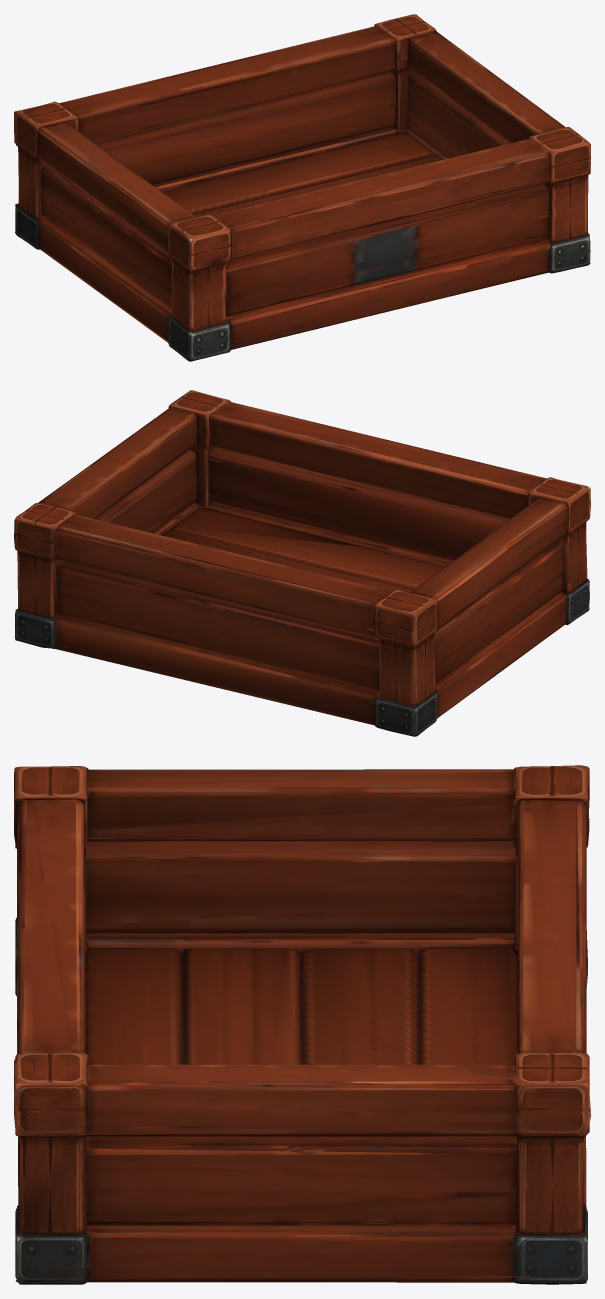
Rendered from Rustic_Wooden_Crate.fbx.
3 renders of one model, top to bottom at view 1: azimuth 30°, elevation 25°; view 2: azimuth 150°, elevation 25°; view 3: azimuth 270°, elevation 25°, orthographic. The views are drawn at different scales.
Parts seen in each view (by area): view 1: mesh_node; view 2: mesh_node; view 3: mesh_node.
Part boxes in pixels (box(x1,y1,x2,y2)): mesh_node: box(14, 14, 590, 361); mesh_node: box(14, 390, 590, 736); mesh_node: box(14, 765, 590, 1284).
Bounding box in the file's own units: 100 × 29.98 × 76.76.
1 material, 1 textured.
